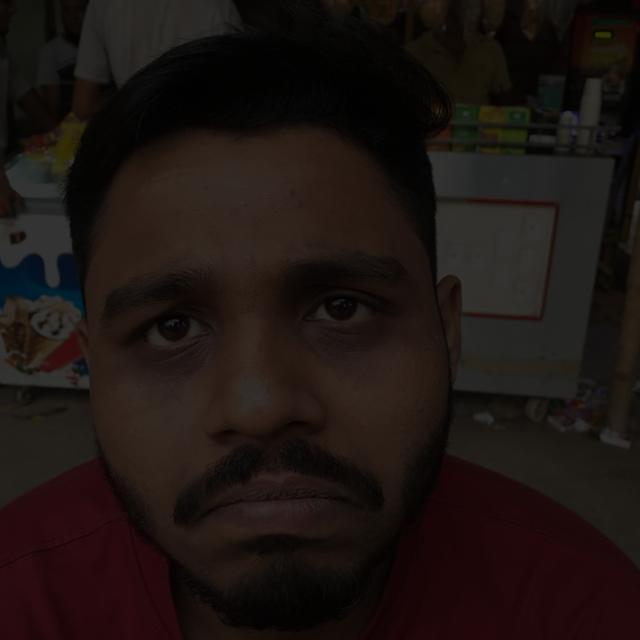Sad: (43, 115, 528, 614)
